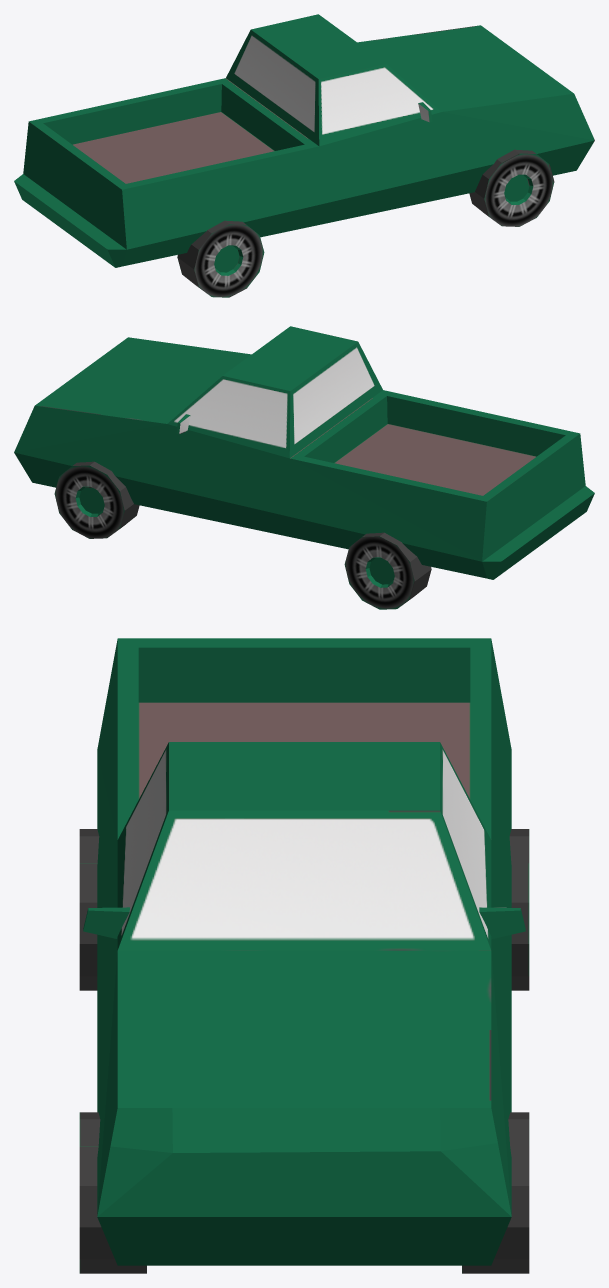
File: car2.obj
3 renders of one model, top to bottom at view 1: azimuth 30°, elevation 25°; view 2: azimuth 150°, elevation 25°; view 3: azimuth 270°, elevation 25°, orthographic. The views are drawn at different scales.
Visible parts, largest first — view 1: vehiclePickup_GEO_Cube.057; view 2: vehiclePickup_GEO_Cube.057; view 3: vehiclePickup_GEO_Cube.057.
Part boxes in pixels (left/top/right/bottom): vehiclePickup_GEO_Cube.057: left=14, top=14, right=594, bottom=297; vehiclePickup_GEO_Cube.057: left=14, top=326, right=594, bottom=609; vehiclePickup_GEO_Cube.057: left=79, top=638, right=529, bottom=1273.
Size of the model in its own units: 0.3258 by 0.1129 by 0.1315.
Materials: 1 (1 with a texture image).
